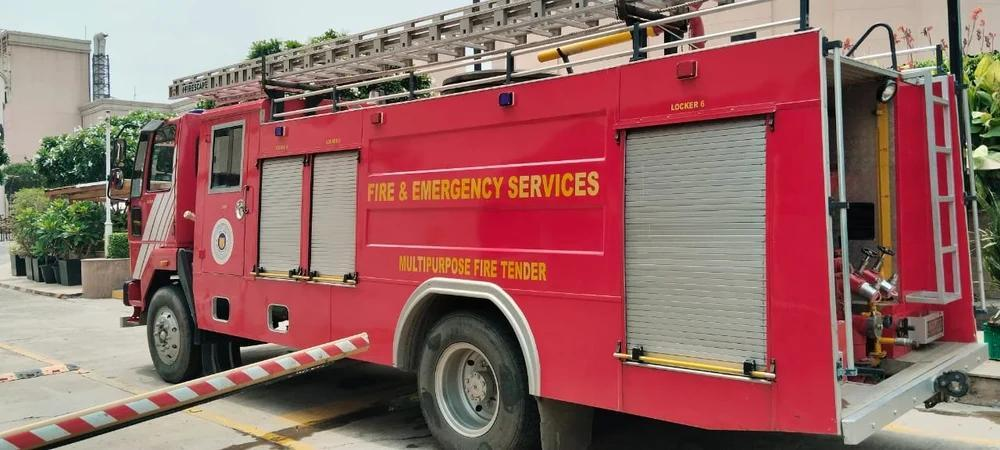Fire-engine: (123, 0, 986, 450), (167, 9, 770, 128), (358, 156, 617, 216)
